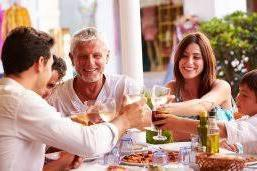Drunk: (76, 43, 106, 80), (179, 44, 202, 78)
